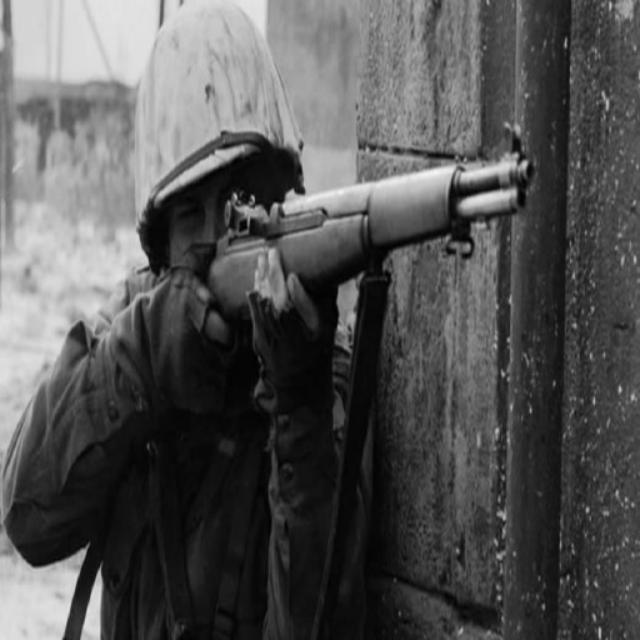other: (12, 0, 370, 640)
